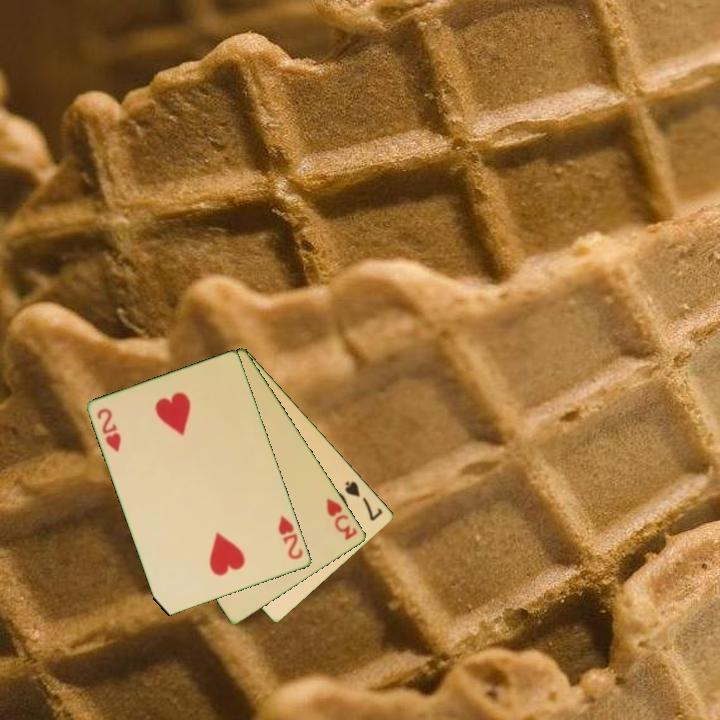2h: (275, 512, 306, 563), (94, 405, 124, 455)
3h: (323, 494, 361, 543)
7s: (342, 478, 386, 524)
